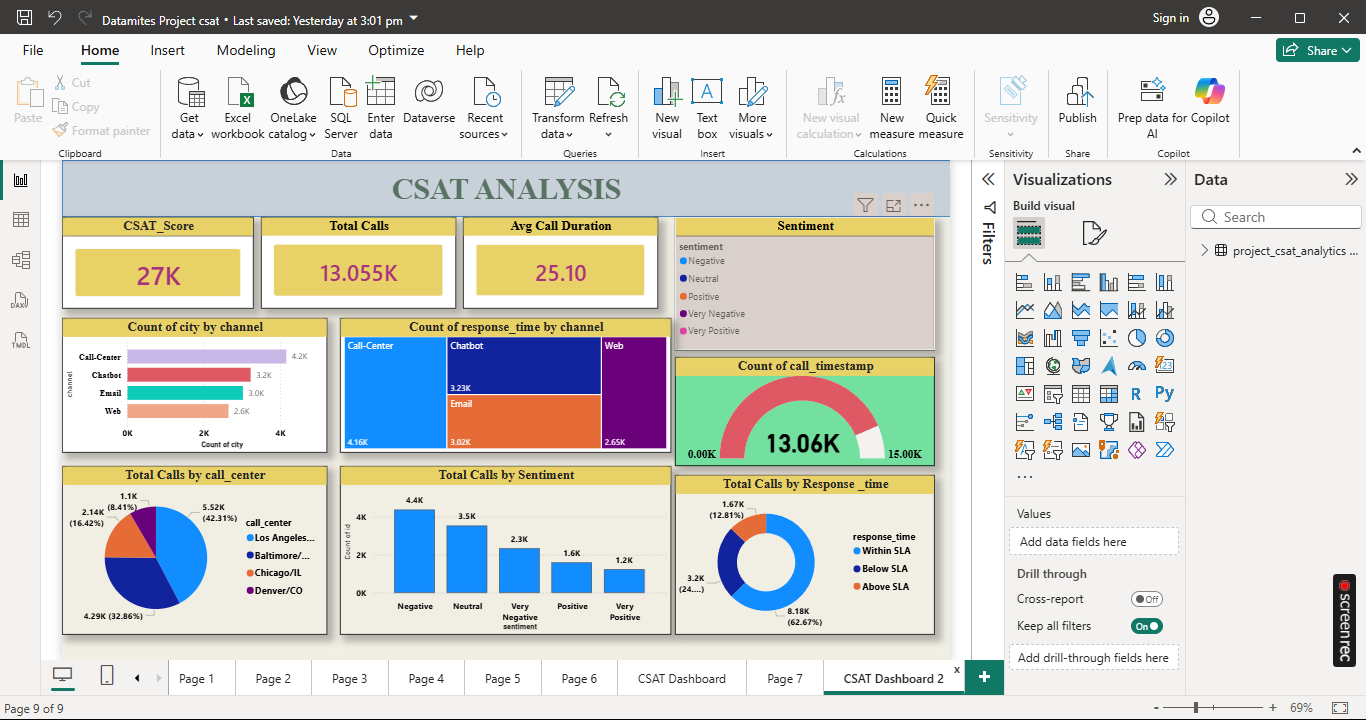

This screenshot's page, from the dashboard's own definition file:
{"tool":"powerbi","page":{"name":"CSAT Dashboard 2 ","canvas":[1280,720],"ordinal":1},"visuals":[{"type":"shape","box":[0,0,1280.2,82.1],"z":0},{"type":"cardVisual","title":"CSAT_Score","fields":{"Data":["Sum(project_csat_analytics CSAT.csat_score)"]},"box":[0,82.1,276.5,132.5],"z":1000},{"type":"cardVisual","title":"Total Calls ","fields":{"Data":["CountNonNull(project_csat_analytics CSAT.id)"]},"box":[286.6,82.1,280.8,132.5],"z":2000},{"type":"cardVisual","title":"Avg Call Duration ","fields":{"Data":["Avg(project_csat_analytics CSAT.call_duration_in_minutes)"]},"box":[577.4,82.1,280.8,132.5],"z":3000},{"type":"donutChart","title":"Sentiment ","fields":{"Category":["project_csat_analytics CSAT.sentiment"]},"box":[882.7,82.1,374.4,191.5],"z":4000},{"type":"clusteredBarChart","fields":{"Category":["project_csat_analytics CSAT.channel"],"Y":["CountNonNull(project_csat_analytics CSAT.city)"]},"box":[0,227.5,381.6,194.4],"z":5000},{"type":"treemap","fields":{"Group":["project_csat_analytics CSAT.channel"],"Values":["CountNonNull(project_csat_analytics CSAT.response_time)"]},"box":[400.3,227.5,476.6,194.4],"z":6000},{"type":"gauge","fields":{"Y":["CountNonNull(project_csat_analytics CSAT.call_timestamp)"]},"box":[882.7,283.7,374.4,157],"z":7000},{"type":"pieChart","title":"Total Calls by call_center ","fields":{"Category":["project_csat_analytics CSAT.call_center"],"Y":["CountNonNull(project_csat_analytics CSAT.id)"]},"box":[0,440.6,381.6,243.4],"z":8000},{"type":"clusteredColumnChart","title":"Total Calls by Sentiment ","fields":{"Category":["project_csat_analytics CSAT.sentiment"],"Y":["CountNonNull(project_csat_analytics CSAT.id)"]},"box":[400.3,440.6,476.6,243.4],"z":9000},{"type":"donutChart","title":"Total Calls by Response _time ","fields":{"Category":["project_csat_analytics CSAT.response_time"],"Y":["CountNonNull(project_csat_analytics CSAT.id)"]},"box":[882.7,453.6,374.4,230.4],"z":10000}]}

Visuals, with their boxes on the page's 1280x720 design canvas (x1, y1, x2, y2). These are canvas units, not pixel positions in the 1366x720 screenshot, which may show the page scaled, cropped or inside an application window:
shape: bbox(0, 0, 1280, 82)
"CSAT_Score" cardVisual: bbox(0, 82, 276, 215)
"Total Calls " cardVisual: bbox(287, 82, 567, 215)
"Avg Call Duration " cardVisual: bbox(577, 82, 858, 215)
"Sentiment " donutChart: bbox(883, 82, 1257, 274)
clusteredBarChart - project_csat_analytics CSAT.channel x CountNonNull(project_csat_analytics CSAT.city): bbox(0, 228, 382, 422)
treemap - project_csat_analytics CSAT.channel x CountNonNull(project_csat_analytics CSAT.response_time): bbox(400, 228, 877, 422)
gauge - CountNonNull(project_csat_analytics CSAT.call_timestamp): bbox(883, 284, 1257, 441)
"Total Calls by call_center " pieChart: bbox(0, 441, 382, 684)
"Total Calls by Sentiment " clusteredColumnChart: bbox(400, 441, 877, 684)
"Total Calls by Response _time " donutChart: bbox(883, 454, 1257, 684)
